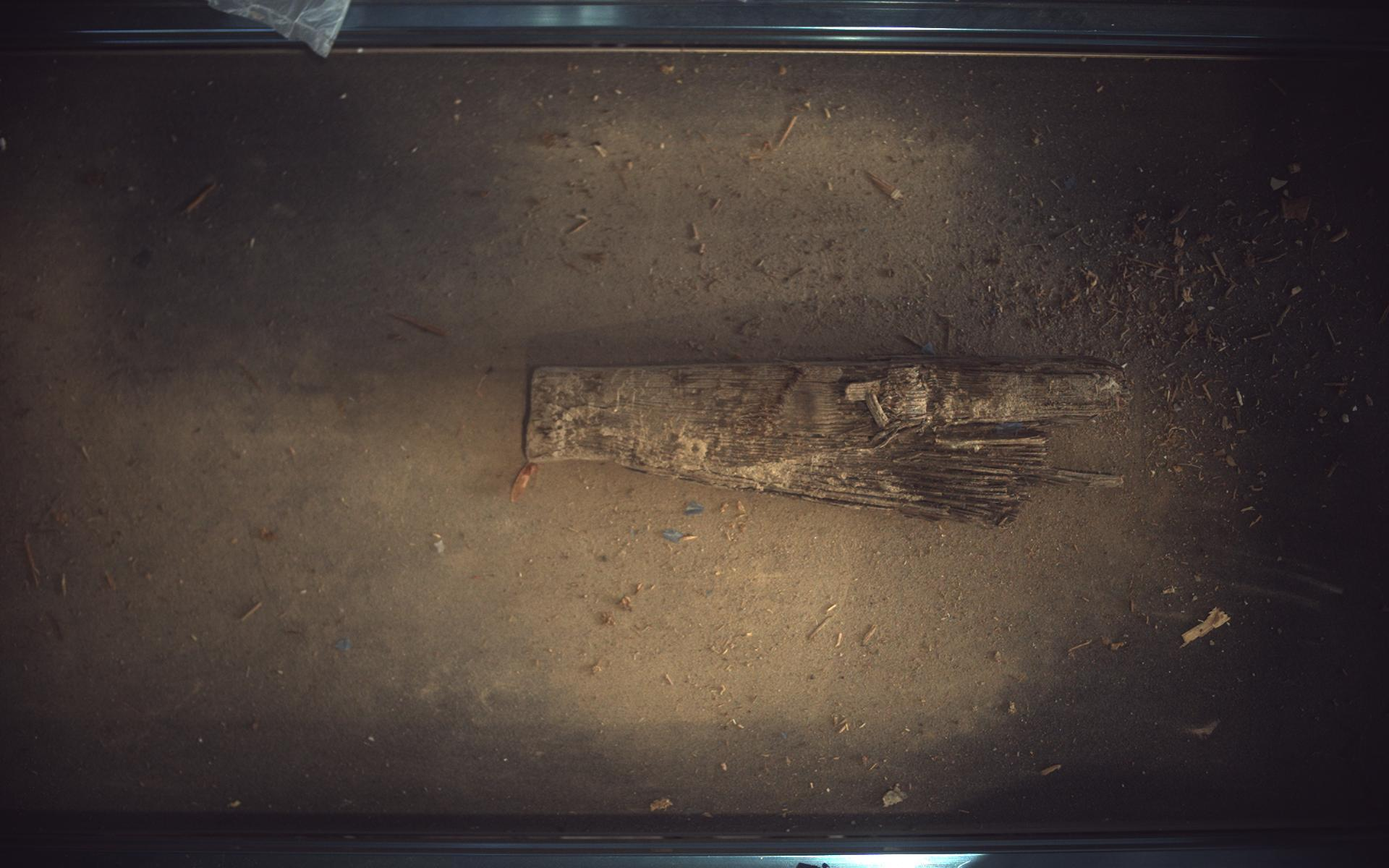wood: (526, 357, 1127, 526)
